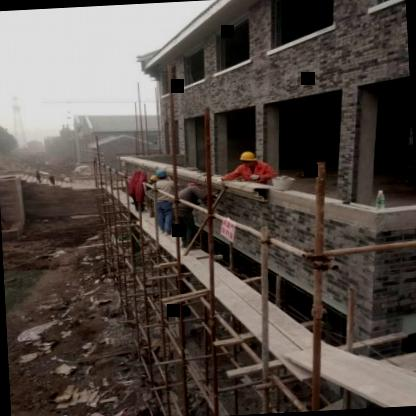helmet: (236, 147, 258, 172), (153, 166, 171, 184)
